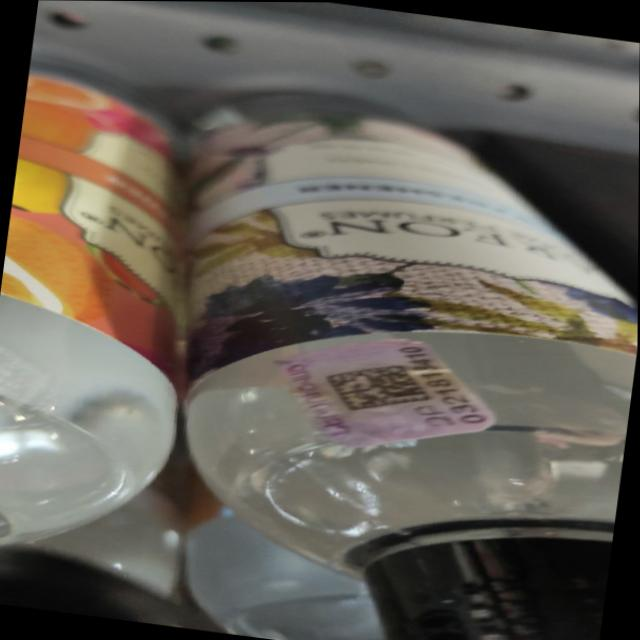datamatrix: (319, 353, 439, 424)
